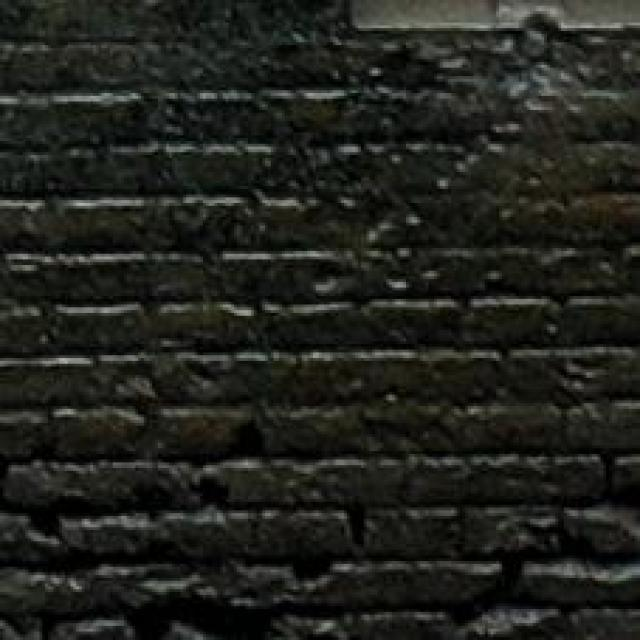Crack: (393, 387, 640, 640)
